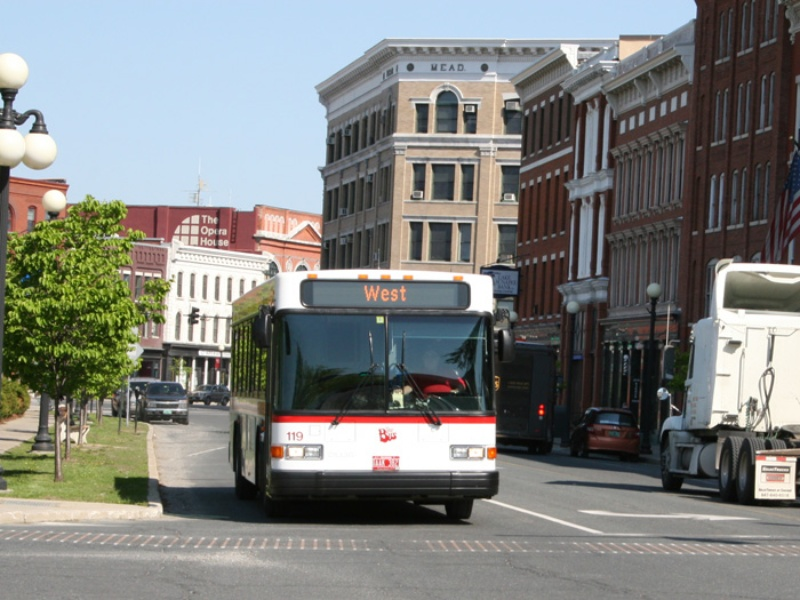bus: (208, 263, 519, 524)
car: (561, 404, 643, 457)
semi: (650, 257, 800, 505)
